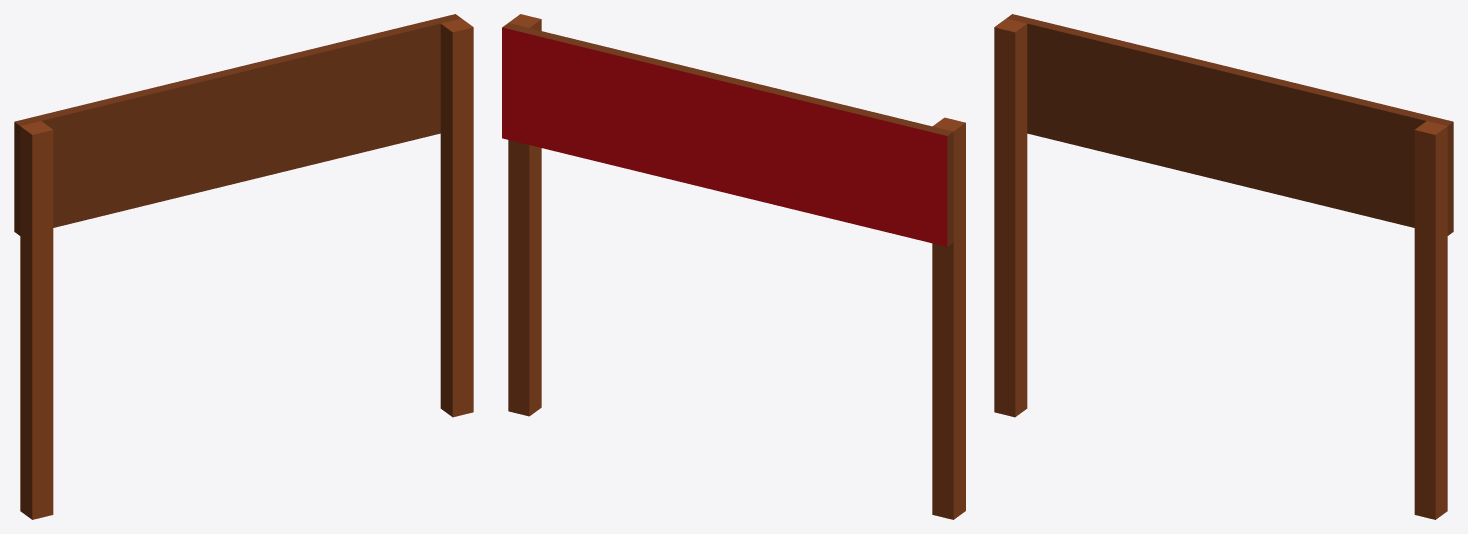
File: MazeGate.fbx
The picture shows the model from 3 angles, left to right: view 1: azimuth 30°, elevation 25°; view 2: azimuth 150°, elevation 25°; view 3: azimuth 330°, elevation 25°; orthographic projection.
Parts seen in each view (by area): view 1: MazeGate; view 2: MazeGate; view 3: MazeGate.
Part boxes in pixels (x1,y1,x2,y2): MazeGate: [14, 14, 473, 519]; MazeGate: [502, 14, 965, 519]; MazeGate: [994, 14, 1453, 519].
Bounding box in the file's own units: 420 × 350 × 30.
